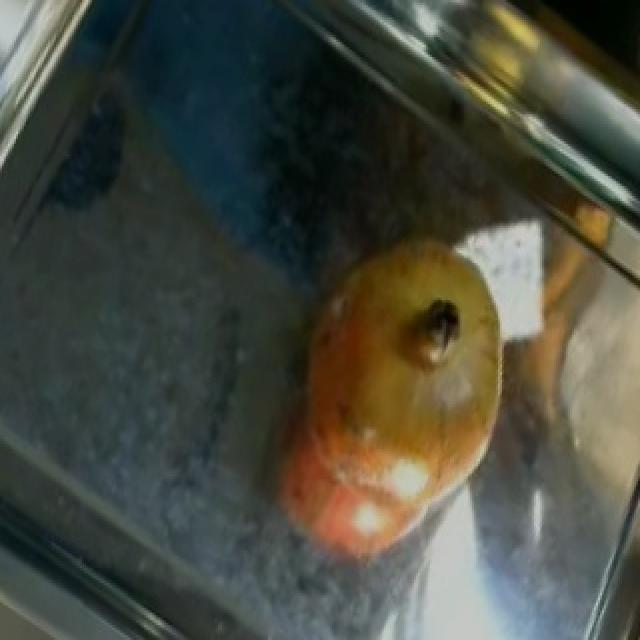fruit: (278, 201, 538, 459)
